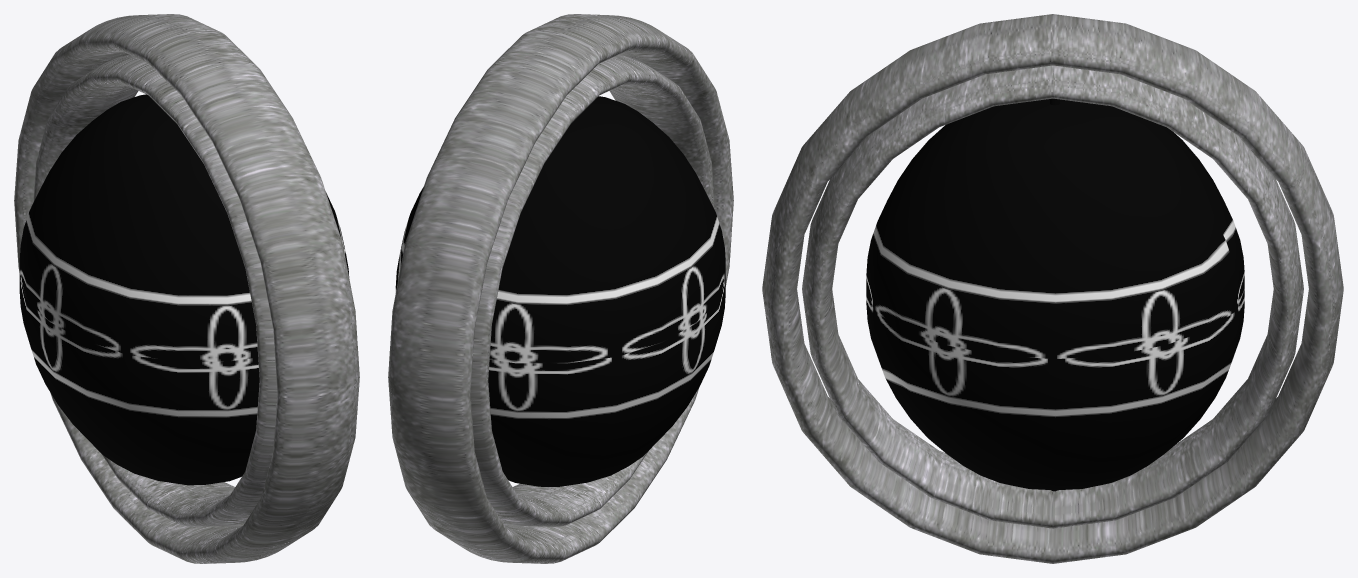
The model's file is POS4.fbx.
The picture shows the model from 3 angles, left to right: view 1: azimuth 30°, elevation 25°; view 2: azimuth 150°, elevation 25°; view 3: azimuth 270°, elevation 25°; orthographic projection. The views are drawn at different scales.
Parts seen in each view (by area): view 1: polySurface1; view 2: polySurface1; view 3: polySurface1.
Boxes of the visible parts, x1=… form: polySurface1: x1=14, y1=14, x2=359, y2=563; polySurface1: x1=388, y1=14, x2=733, y2=563; polySurface1: x1=762, y1=14, x2=1343, y2=563.
Bounding box in the file's own units: 1.26 × 2.23 × 2.21.
